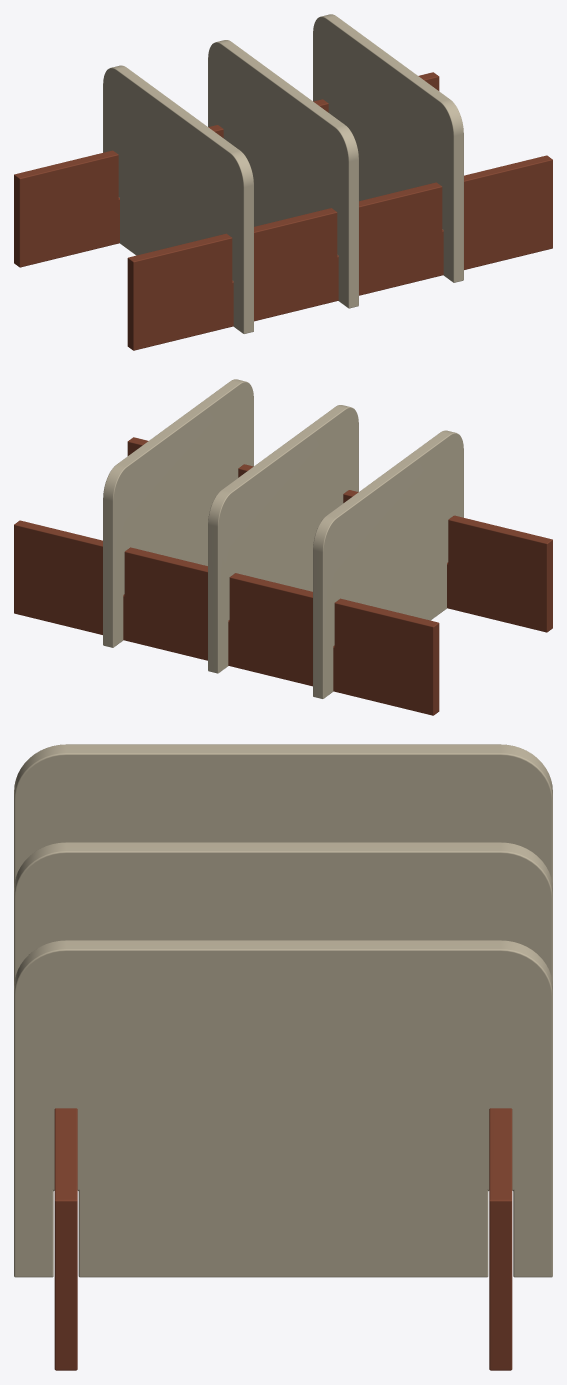
3 renders of one model, top to bottom at view 1: azimuth 30°, elevation 25°; view 2: azimuth 150°, elevation 25°; view 3: azimuth 270°, elevation 25°, orthographic. The views are drawn at different scales.
Parts seen in each view (by area): view 1: Rail 1, Divider 1, Divider 3, Divider 2, Rail 2; view 2: Rail 2, Divider 1, Divider 3, Divider 2, Rail 1; view 3: Divider 3, Divider 1, Divider 2, Rail 1, Rail 2.
Part boxes in pixels (x1,y1,x2,y2): Rail 1: [127, 155, 552, 350]; Divider 1: [103, 65, 253, 333]; Divider 3: [313, 14, 463, 282]; Divider 2: [208, 40, 358, 308]; Rail 2: [14, 72, 439, 267]; Rail 2: [14, 520, 439, 715]; Divider 1: [313, 430, 463, 698]; Divider 3: [103, 379, 253, 647]; Divider 2: [208, 405, 358, 673]; Rail 1: [127, 437, 552, 632]; Divider 3: [14, 940, 552, 1277]; Divider 1: [14, 744, 552, 887]; Divider 2: [14, 842, 552, 985]; Rail 1: [54, 1108, 77, 1370]; Rail 2: [489, 1108, 512, 1370].
Bounding box in the file's own units: 0.32 × 0.125 × 0.186.
